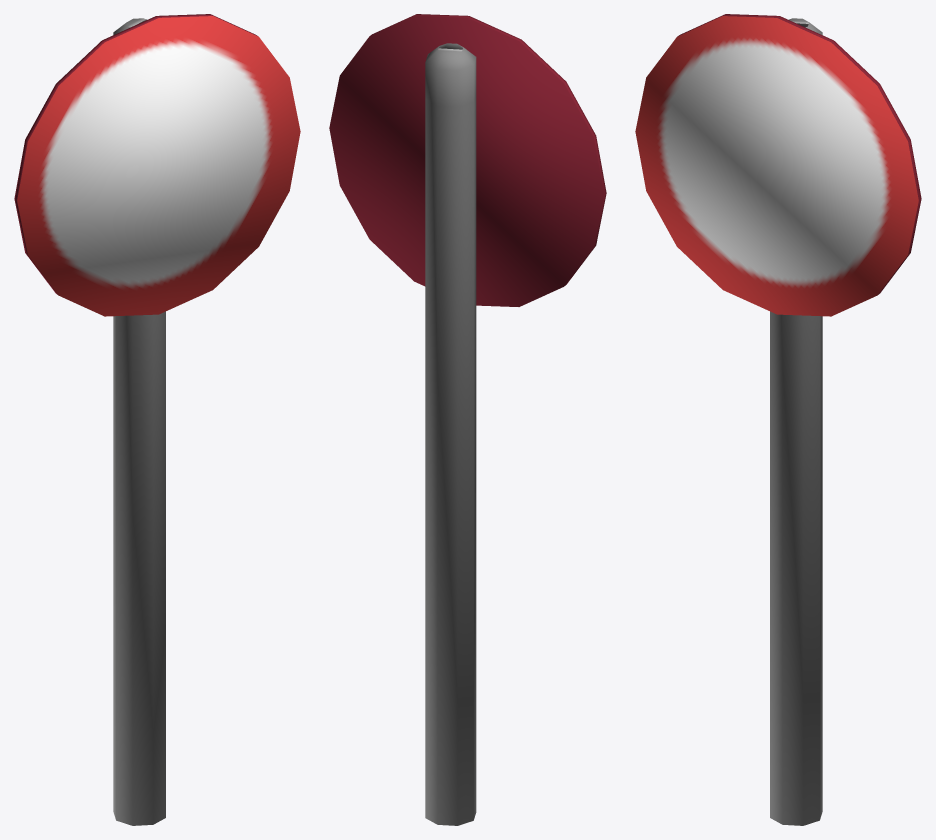
File: Placa02.fbx
The picture shows the model from 3 angles, left to right: view 1: azimuth 30°, elevation 25°; view 2: azimuth 150°, elevation 25°; view 3: azimuth 330°, elevation 25°; orthographic projection. The views are drawn at different scales.
Visible parts, largest first — view 1: Poste01.001; view 2: Poste01.001; view 3: Poste01.001.
Part boxes in pixels (x1,y1,x2,y2): Poste01.001: (14, 14, 300, 825); Poste01.001: (329, 14, 606, 825); Poste01.001: (635, 14, 921, 825).
Size of the model in its own units: 60 by 164 by 12.
Materials: 1 (1 with a texture image).
